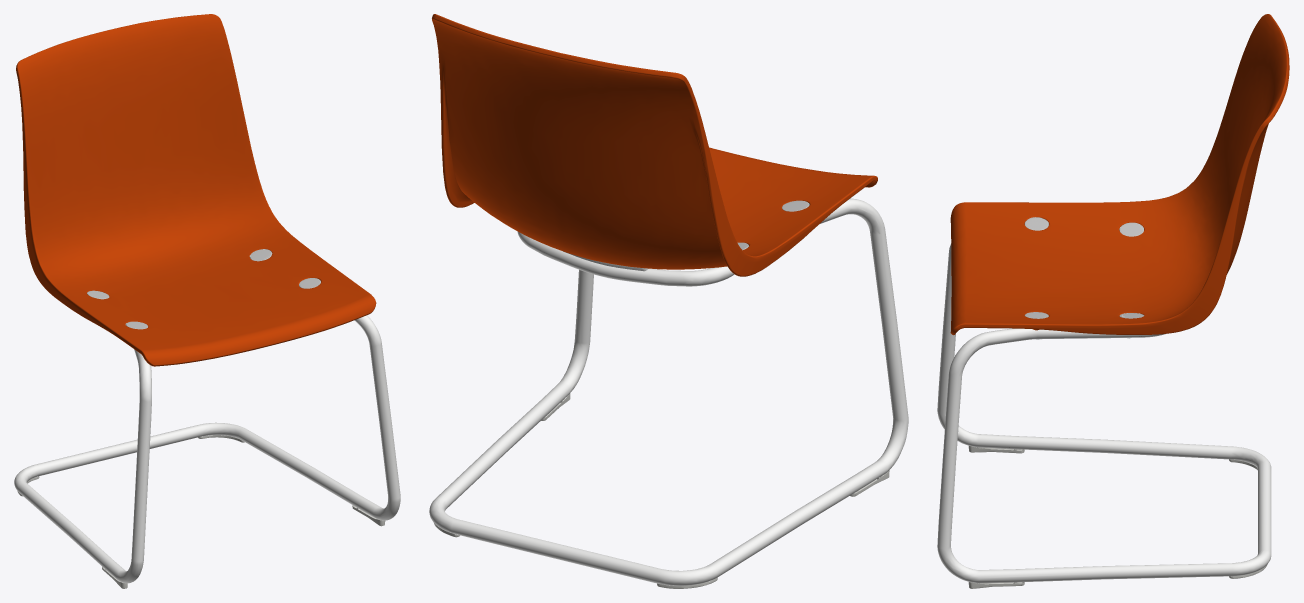
File: tobias_chair_brown_red_chrome_plated.glb
3 renders of one model, left to right at view 1: azimuth 30°, elevation 25°; view 2: azimuth 150°, elevation 25°; view 3: azimuth 270°, elevation 25°, orthographic. The views are drawn at different scales.
Visible parts, largest first — view 1: Mesh_1, Mesh_0; view 2: Mesh_1, Mesh_0; view 3: Mesh_1, Mesh_0.
Boxes of the visible parts, bbox=[...] form: Mesh_1: bbox=[16, 14, 376, 366]; Mesh_0: bbox=[14, 249, 400, 588]; Mesh_1: bbox=[432, 14, 877, 276]; Mesh_0: bbox=[429, 198, 908, 588]; Mesh_1: bbox=[950, 14, 1289, 335]; Mesh_0: bbox=[937, 217, 1271, 588].
Size of the model in its own units: 0.5477 by 0.8187 by 0.5732.
Materials: 2 (1 with a texture image).
